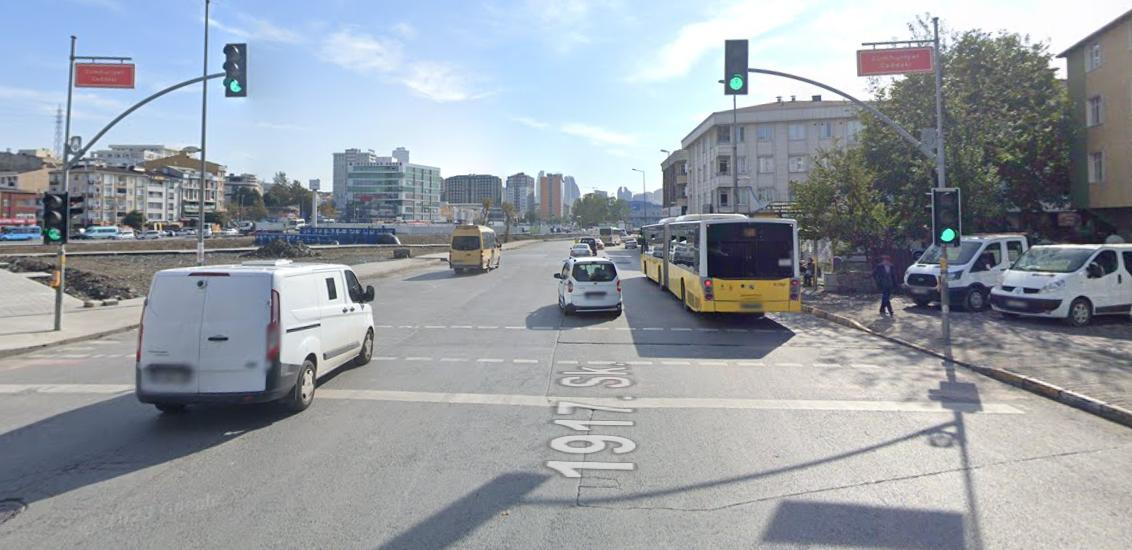greenlight: (933, 185, 964, 248), (222, 40, 247, 99), (43, 191, 69, 246), (724, 37, 747, 95)
